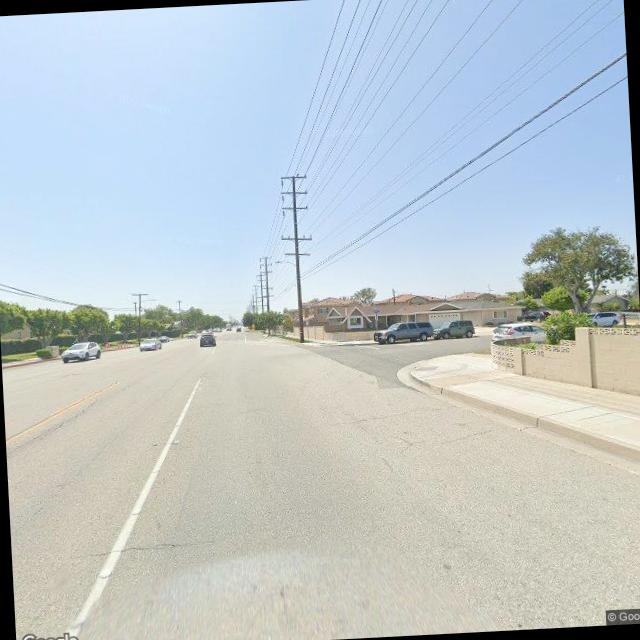crack: (332, 399, 466, 428), (82, 534, 206, 560)
